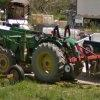Tractor: (10, 20, 89, 91)
